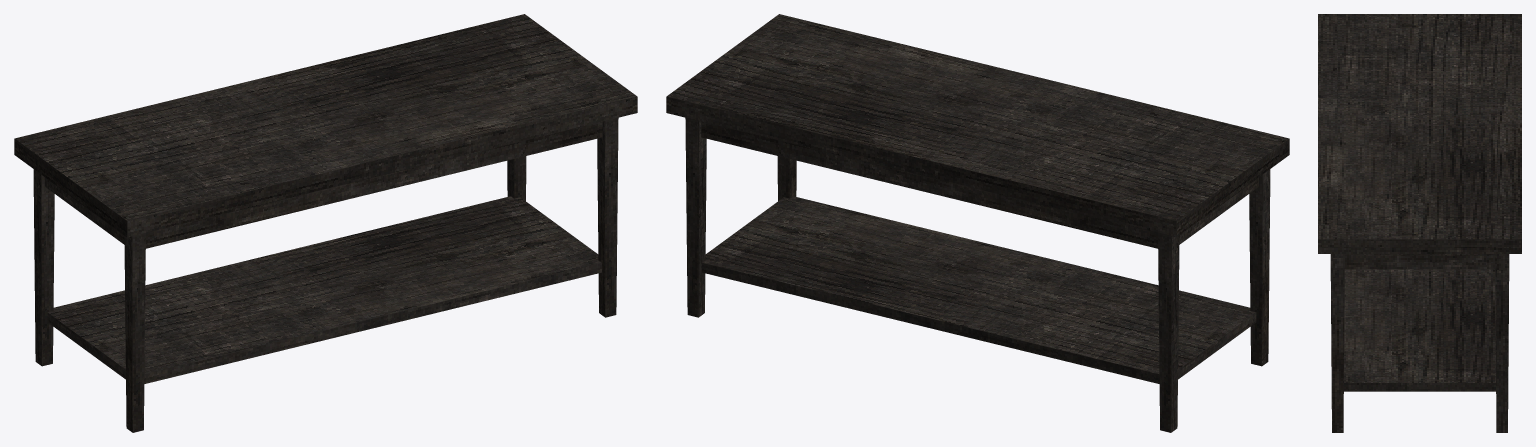
File: coffee_table_1.glb
3 renders of one model, left to right at view 1: azimuth 30°, elevation 25°; view 2: azimuth 150°, elevation 25°; view 3: azimuth 270°, elevation 25°, orthographic. The views are drawn at different scales.
Visible parts, largest first — view 1: coffee_table_1; view 2: coffee_table_1; view 3: coffee_table_1.
Boxes of the visible parts, x1,y1,x2,y2 form: coffee_table_1: [14, 14, 637, 432]; coffee_table_1: [666, 14, 1289, 432]; coffee_table_1: [1318, 14, 1521, 432].
Size of the model in its own units: 1.62 by 0.67 by 0.62.
Materials: 1 (1 with a texture image).
